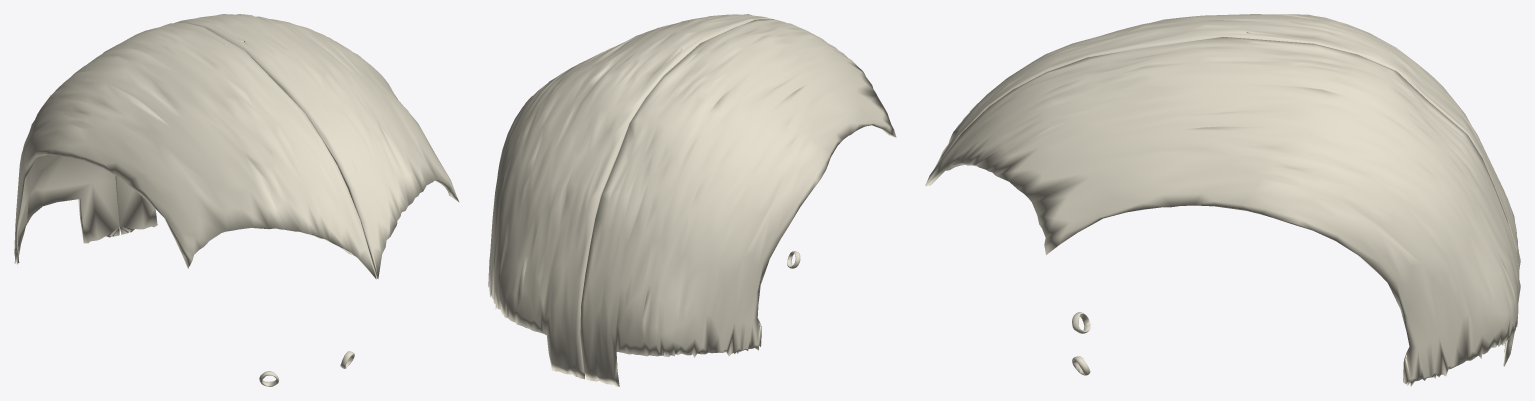
The model's file is tendons-head-balanced.glb.
3 views of the same model, side by side, from view 1: azimuth 30°, elevation 25°; view 2: azimuth 150°, elevation 25°; view 3: azimuth 270°, elevation 25° (orthographic). The views are drawn at different scales.
Parts seen in each view (by area): view 1: za.epicranial-aponeurosis-r, za.epicranial-aponeurosis-l; view 2: za.epicranial-aponeurosis-r, za.epicranial-aponeurosis-l; view 3: za.epicranial-aponeurosis-l, za.epicranial-aponeurosis-r.
Part boxes in pixels (box(x1,y1,x2,y2)): za.epicranial-aponeurosis-r: box(14, 22, 376, 279); za.epicranial-aponeurosis-l: box(115, 14, 459, 278); za.epicranial-aponeurosis-r: box(580, 19, 896, 386); za.epicranial-aponeurosis-l: box(488, 14, 771, 379); za.epicranial-aponeurosis-l: box(925, 37, 1520, 386); za.epicranial-aponeurosis-r: box(925, 14, 1520, 346).
Bounding box in the file's own units: 0.1339 × 0.1112 × 0.1889.
